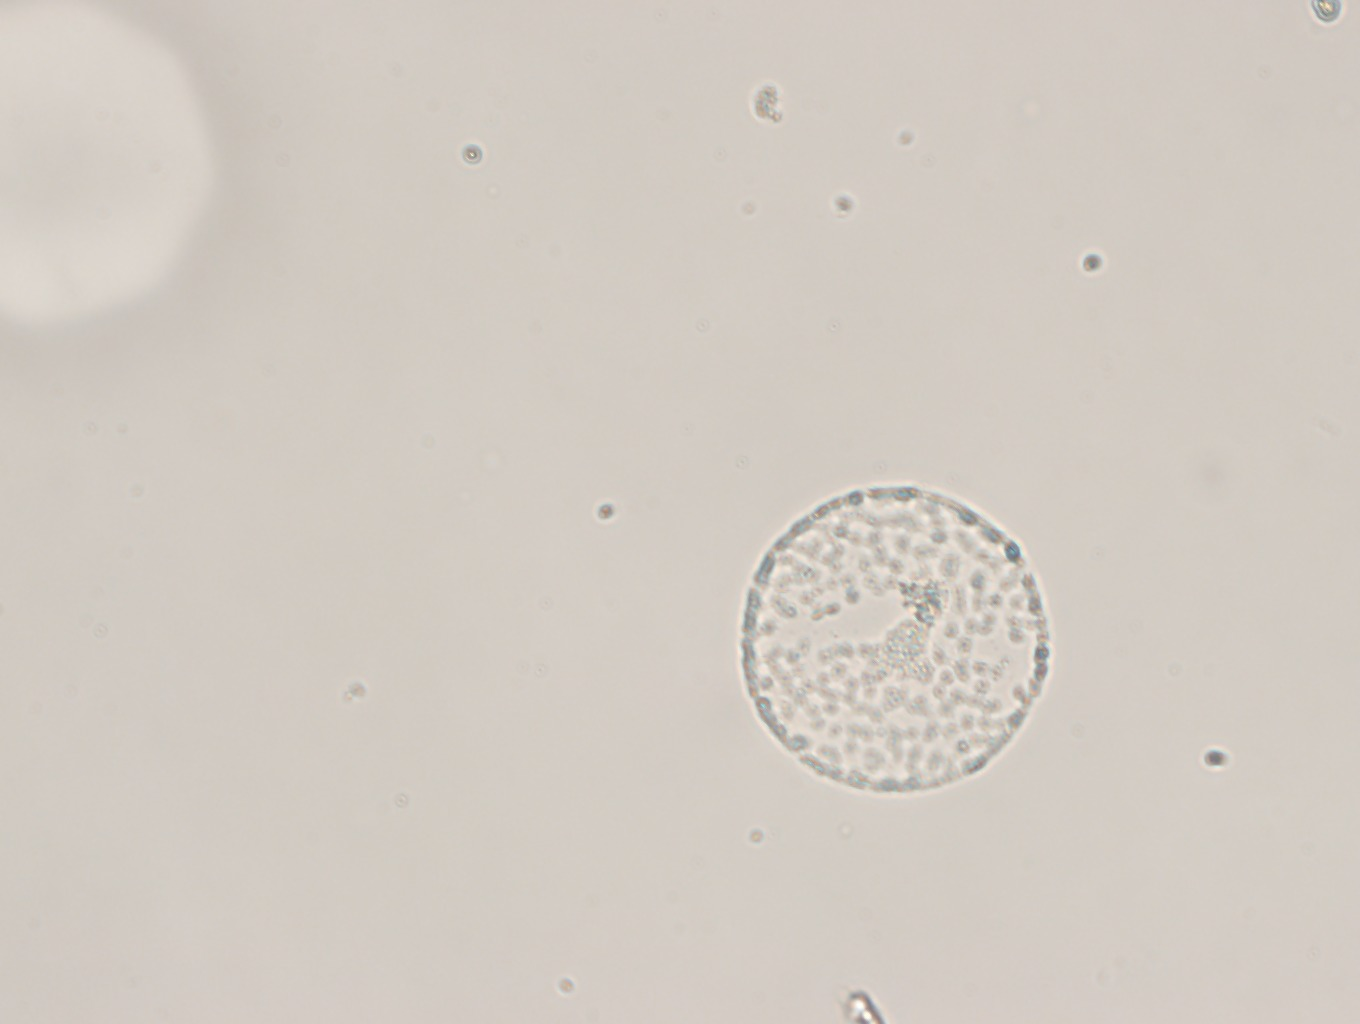coscinodiscus: (740, 487, 1053, 793)
